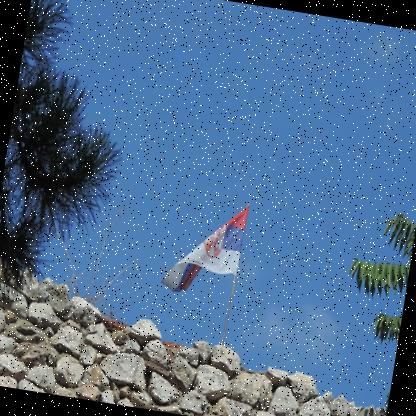rs: (161, 196, 250, 302)
